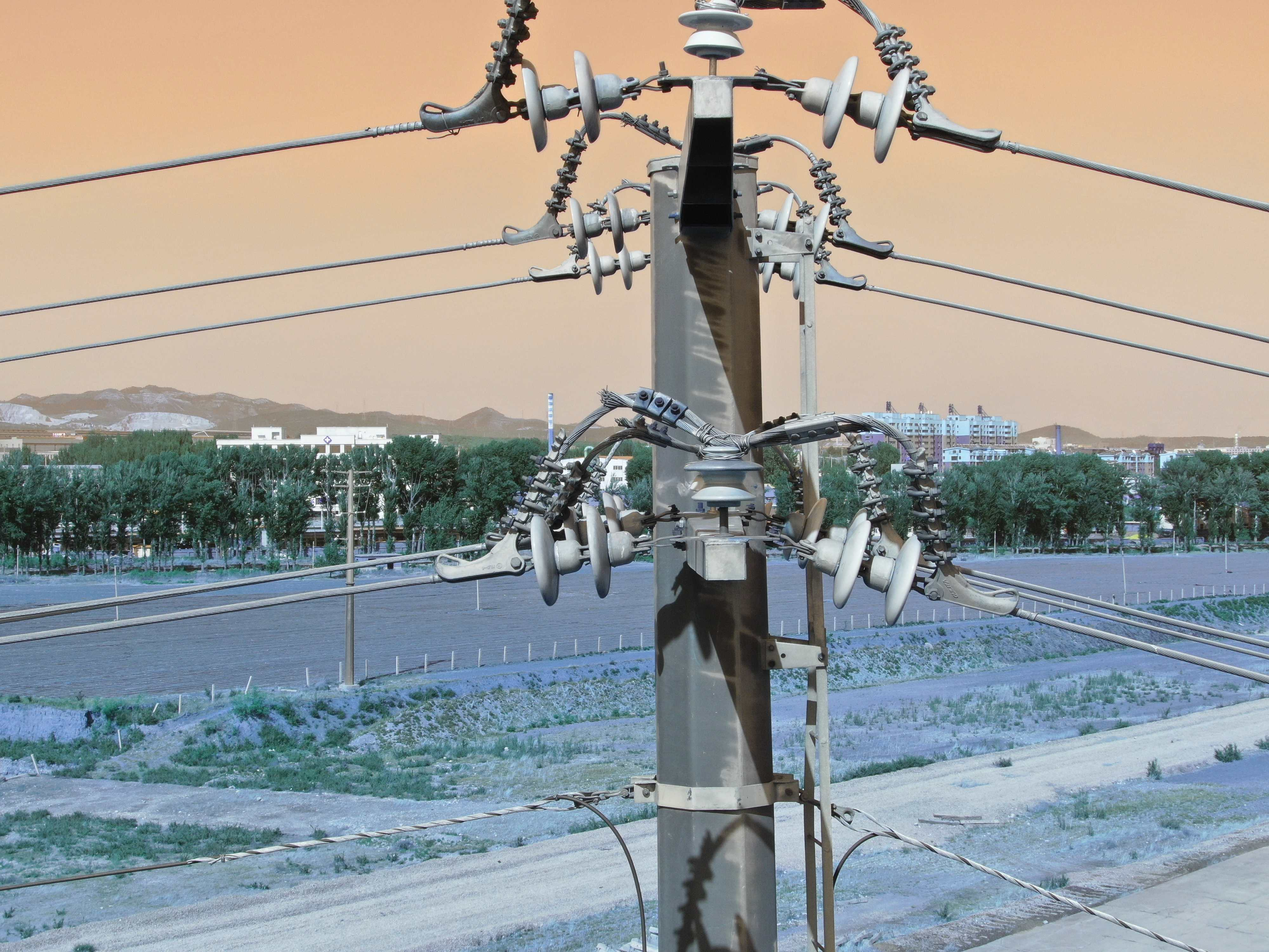severe_soiling_no_discharge_whole: (680, 441, 765, 511)
